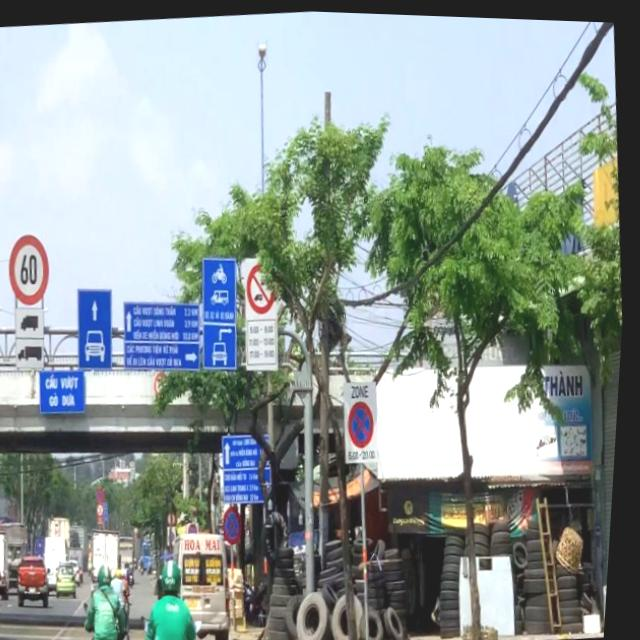Cam dung xe va do xe: (349, 396, 383, 447), (226, 503, 251, 543), (101, 486, 111, 502)
Toc do toi da cho phep: (7, 232, 58, 307)
